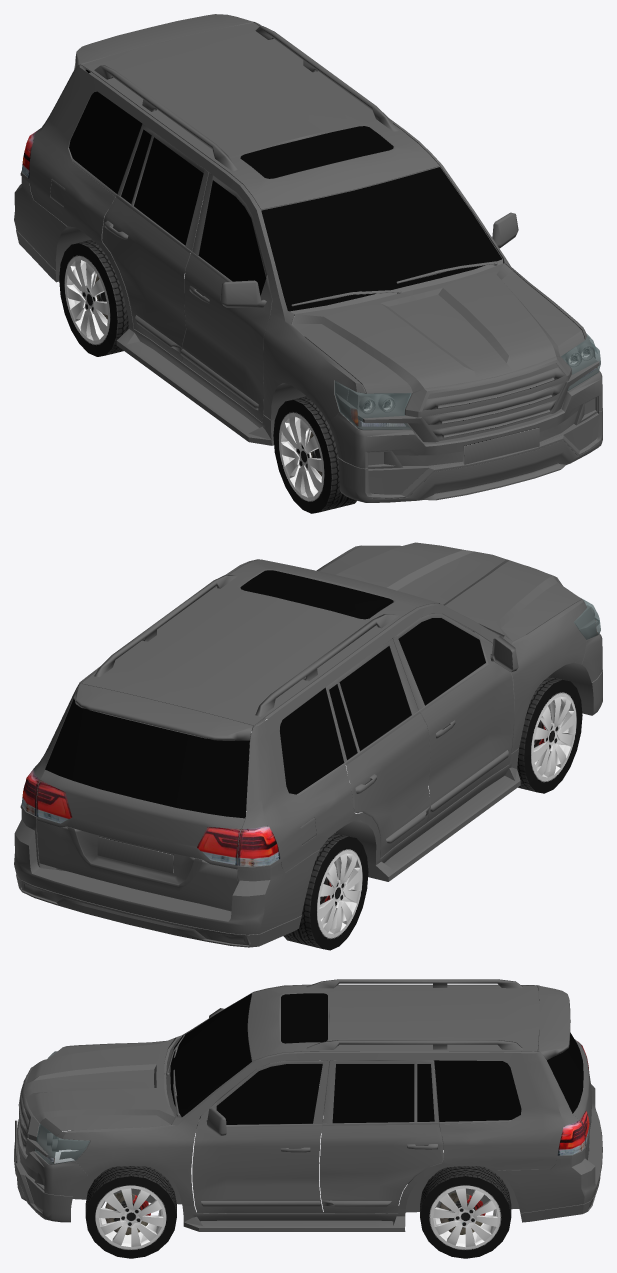
Rendered from Prado Jeep.fbx.
The picture shows the model from 3 angles, top to bottom: view 1: azimuth 30°, elevation 25°; view 2: azimuth 150°, elevation 25°; view 3: azimuth 270°, elevation 25°; orthographic projection. The views are drawn at different scales.
Visible parts, largest first — view 1: Body, Tyre1, Tyre; view 2: Body, Tyre, Tyre1; view 3: Body, Tyre2, Tyre3.
Boxes of the visible parts, <box> form: Body: <box>14,14,602,502</box>; Tyre1: <box>273,396,356,513</box>; Tyre: <box>59,239,128,356</box>; Body: <box>14,542,602,947</box>; Tyre: <box>283,833,368,950</box>; Tyre1: <box>517,676,582,793</box>; Body: <box>14,979,602,1234</box>; Tyre2: <box>420,1166,511,1258</box>; Tyre3: <box>85,1166,176,1258</box>.
Size of the model in its own units: 569 by 469 by 1251.
Materials: 6 (3 with a texture image).
